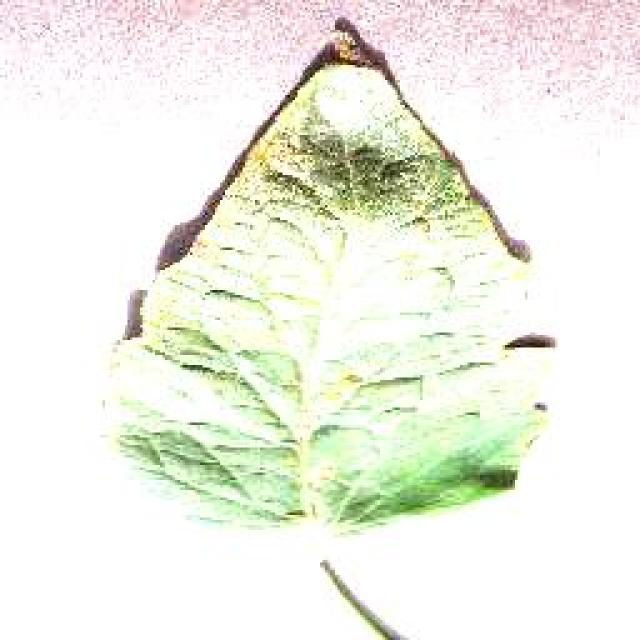Tomato___Target_Spot: (110, 18, 552, 638)
